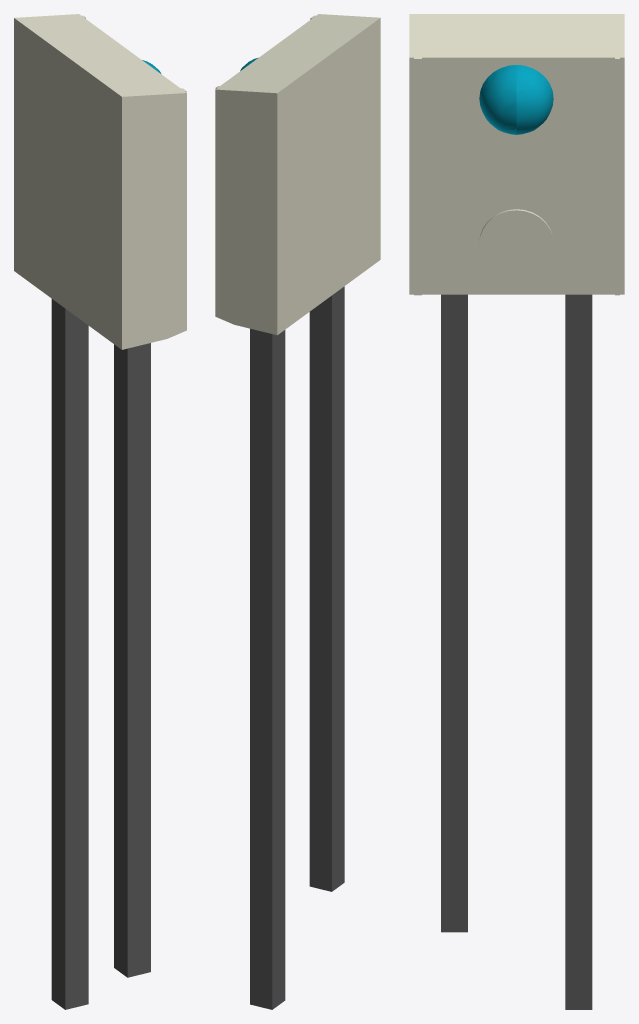
The model's file is kc-osram_lpt80a.glb.
3 views of the same model, side by side, from view 1: azimuth 30°, elevation 25°; view 2: azimuth 150°, elevation 25°; view 3: azimuth 270°, elevation 25° (orthographic). The views are drawn at different scales.
Visible parts, largest first — view 1: 0.08333333333333333_0.08333333333333333_0.08333333333333333_, 0.75_0.75_0.6666666666666666_0; view 2: 0.08333333333333333_0.08333333333333333_0.08333333333333333_, 0.75_0.75_0.6666666666666666_0; view 3: 0.75_0.75_0.6666666666666666_0, 0.08333333333333333_0.08333333333333333_0.08333333333333333_, 0_0.3333333333333333_0.5_0.
Boxes of the visible parts, x1,y1,x2,y2 form: 0.08333333333333333_0.08333333333333333_0.08333333333333333_: (51, 299, 150, 1009); 0.75_0.75_0.6666666666666666_0: (14, 14, 186, 349); 0.08333333333333333_0.08333333333333333_0.08333333333333333_: (250, 286, 344, 1009); 0.75_0.75_0.6666666666666666_0: (215, 14, 380, 335); 0.75_0.75_0.6666666666666666_0: (409, 14, 624, 295); 0.08333333333333333_0.08333333333333333_0.08333333333333333_: (441, 294, 592, 1009); 0_0.3333333333333333_0.5_0: (479, 65, 553, 134).
Size of the model in its own units: 0.2247 by 2.19 by 0.44.
